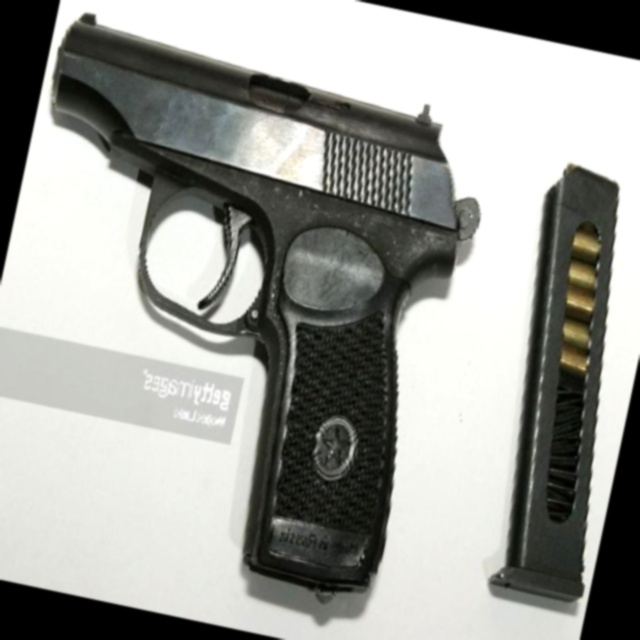gun: (0, 7, 507, 607)
